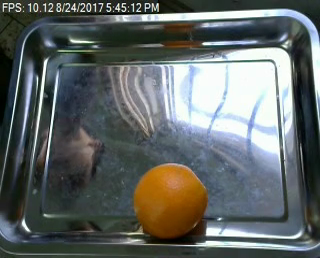Orange: (133, 162, 208, 238)
